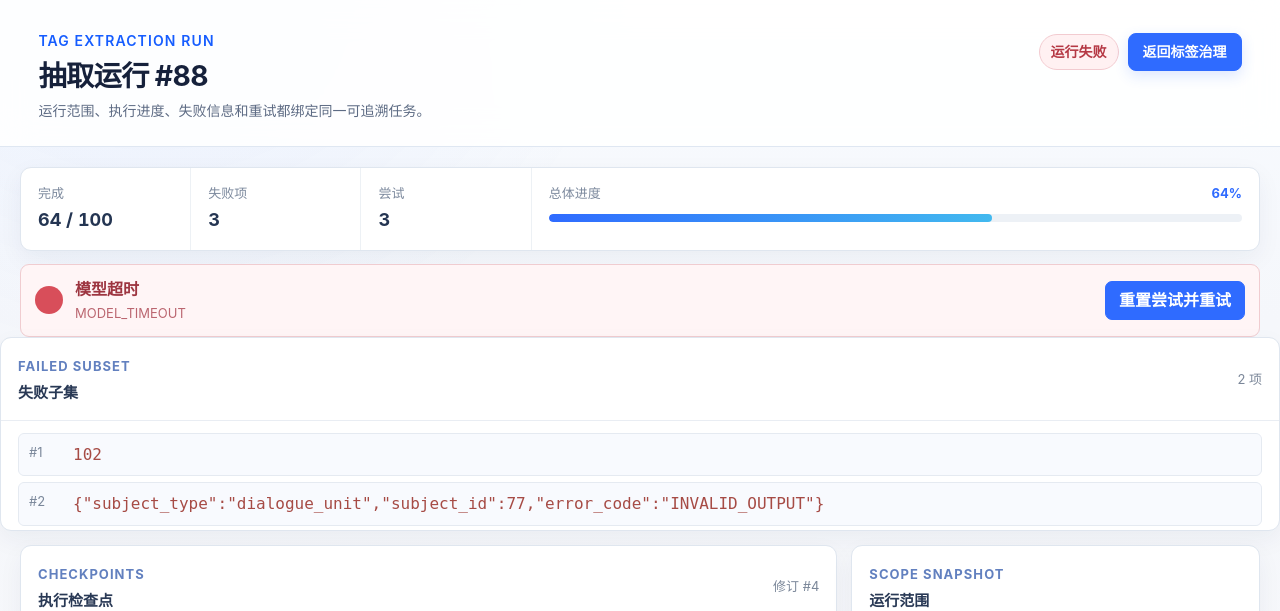
Test: TagRunDetailPage › keeps manual retry enabled after attempt exhaustion and relabels it as a reset
Click the button "重置尝试并重试". click: (1175, 300)
box: [1105,281,1245,320]
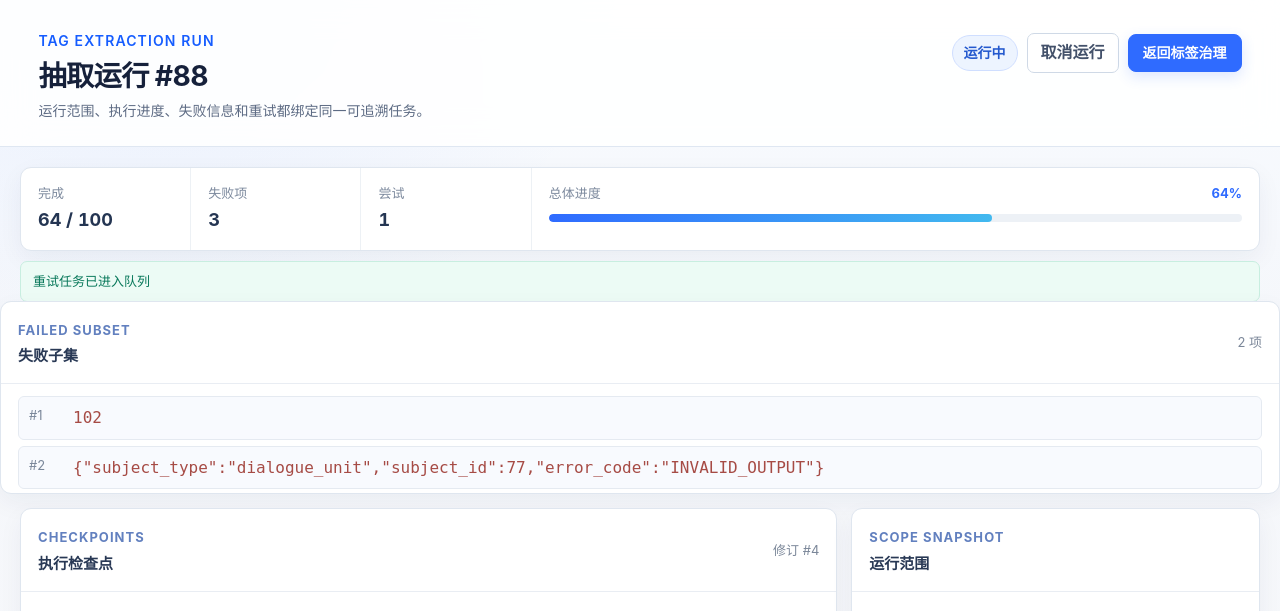
Expected: the text "重试任务已进入队列" is shown, [20,261,1260,302]
